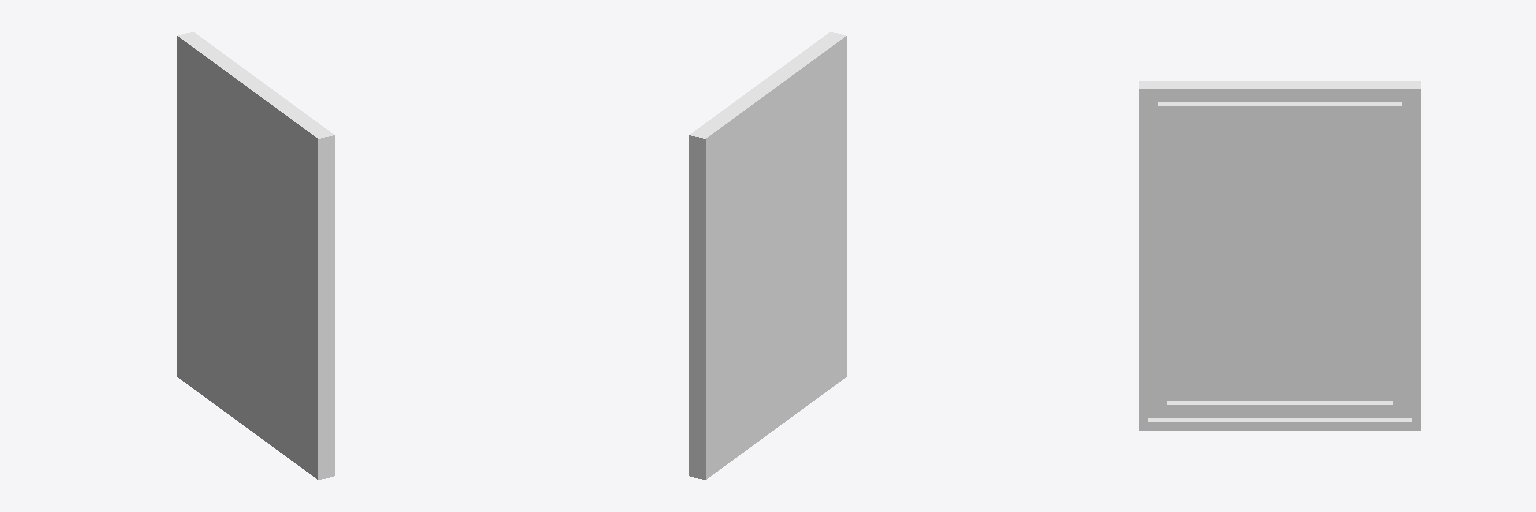
File: Painting-0.obj
3 views of the same model, side by side, from view 1: azimuth 30°, elevation 25°; view 2: azimuth 150°, elevation 25°; view 3: azimuth 270°, elevation 25° (orthographic).
Visible parts, largest first — view 1: Painting-0; view 2: Painting-0; view 3: Painting-0.
Part boxes in pixels (x1,y1,x2,y2): Painting-0: (177,32,334,479); Painting-0: (689,32,846,479); Painting-0: (1139,81,1420,430).
Bounding box in the file's own units: 2 × 40 × 30.